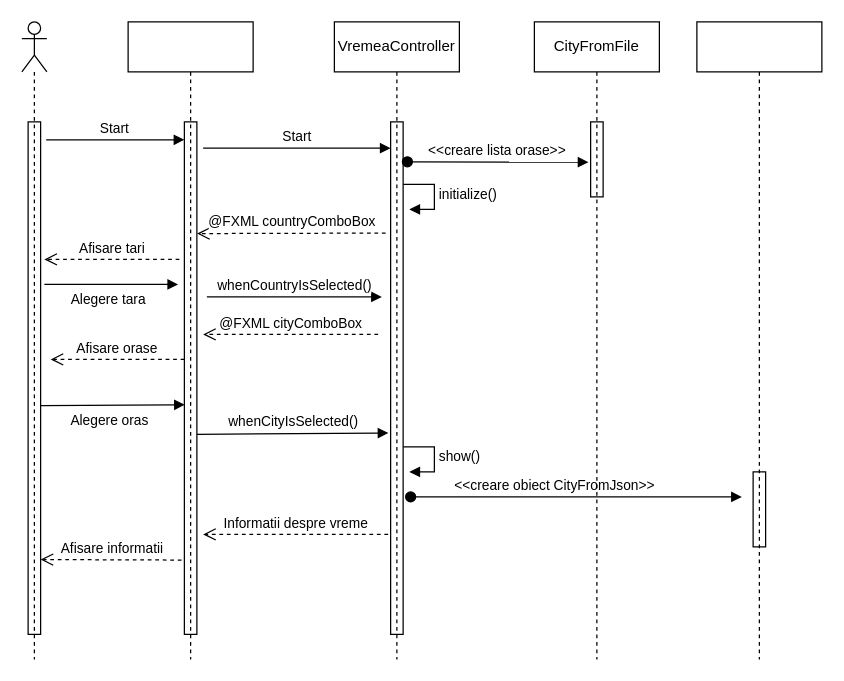
Some shapes in this 844 by 681 pixel diagram are drawn without their labels. The box of each missing label's shape, as (x1, y1, x2, y2) in pixels:
CityFromJson: (696, 21, 822, 659)
GUI Interface: (127, 21, 253, 659)
